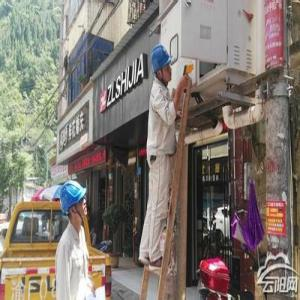blue: (61, 181, 89, 228), (151, 45, 175, 83)
